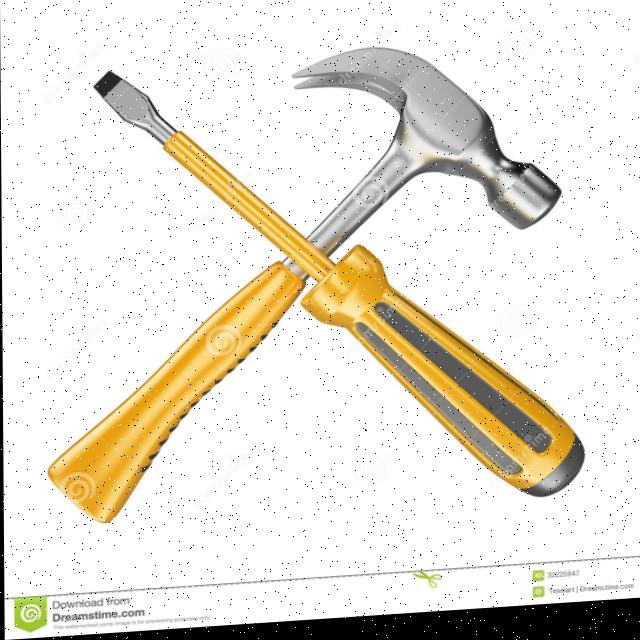Screwdriver: (92, 69, 586, 499)
